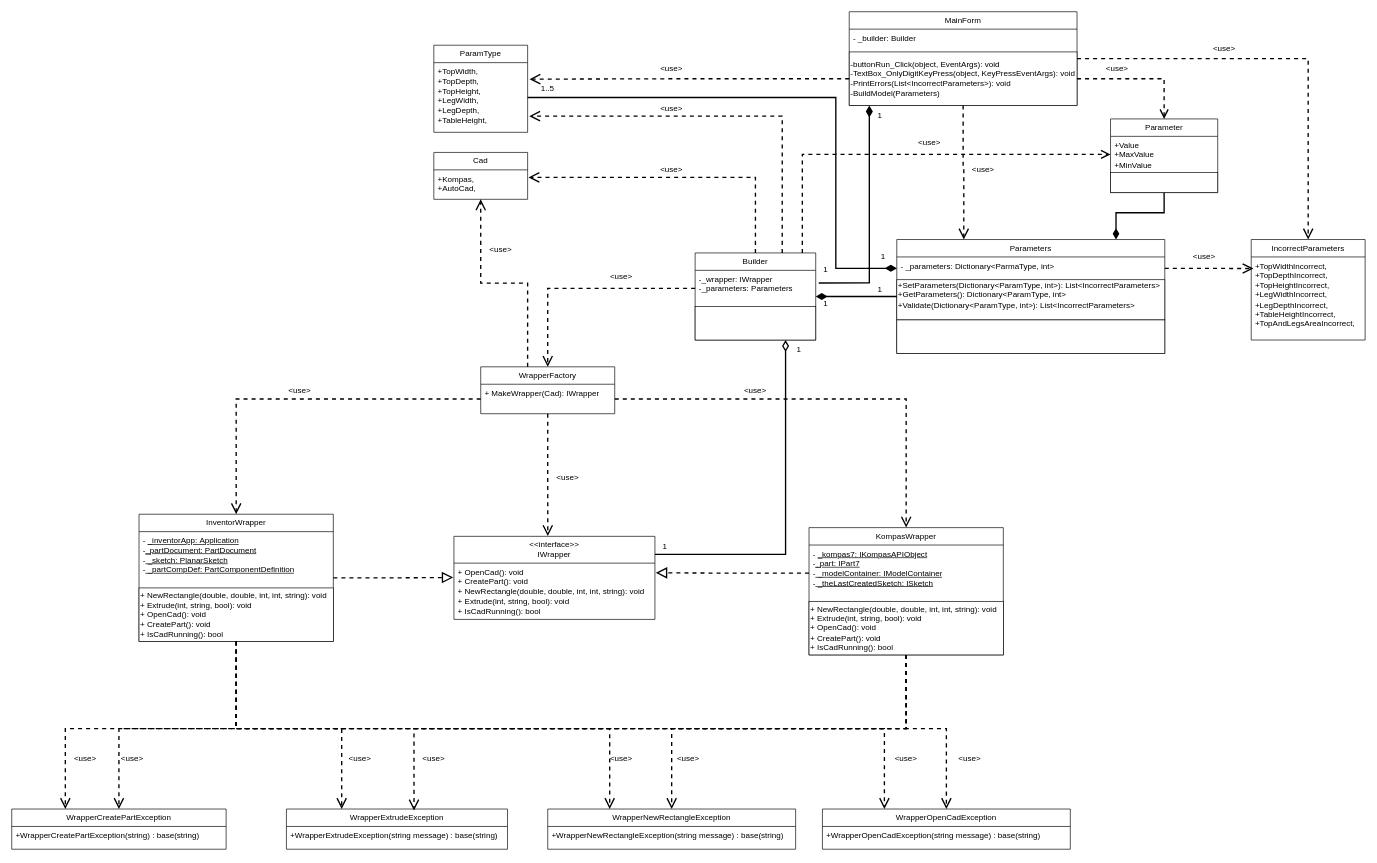
Image size: 1377x863. Some labels were removed from this diagram. Here are the shapes that lost their labels. From the top down, the centre of each, then its label:
At (1164,182): "+Parameter()".
At (755,323): "+Builder(Parameters, Cad) +Build(): void".
At (1030,336): "<<property>> +Params(): Dictionary<ParamType, int>".
